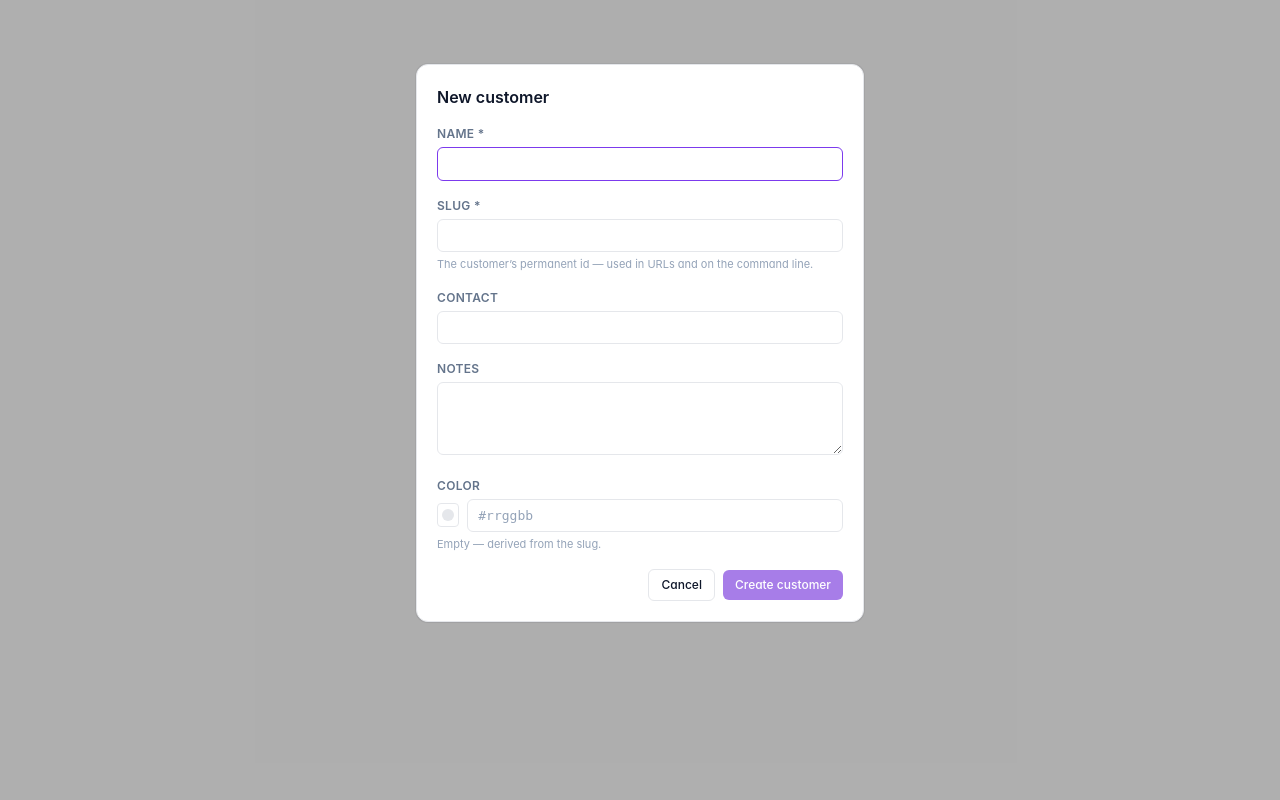
Test case: CustomerFormDialog › shows another 400 inline in the dialog
Step 1. Type "Acme" into the field labelled "Name *" → (640, 164), box top-left (437, 147), bottom-right (843, 180)
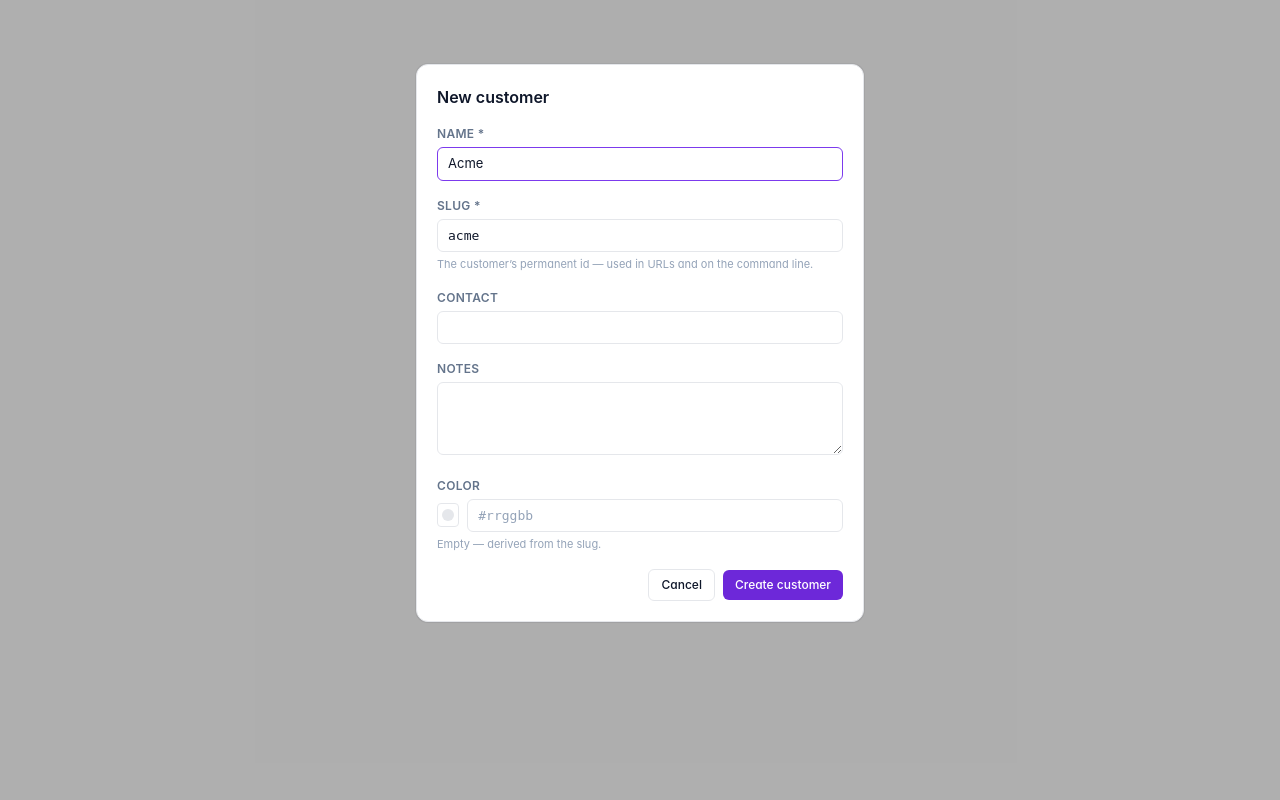
Step 2. Click the button "Create customer" → (783, 584), box top-left (723, 570), bottom-right (843, 600)
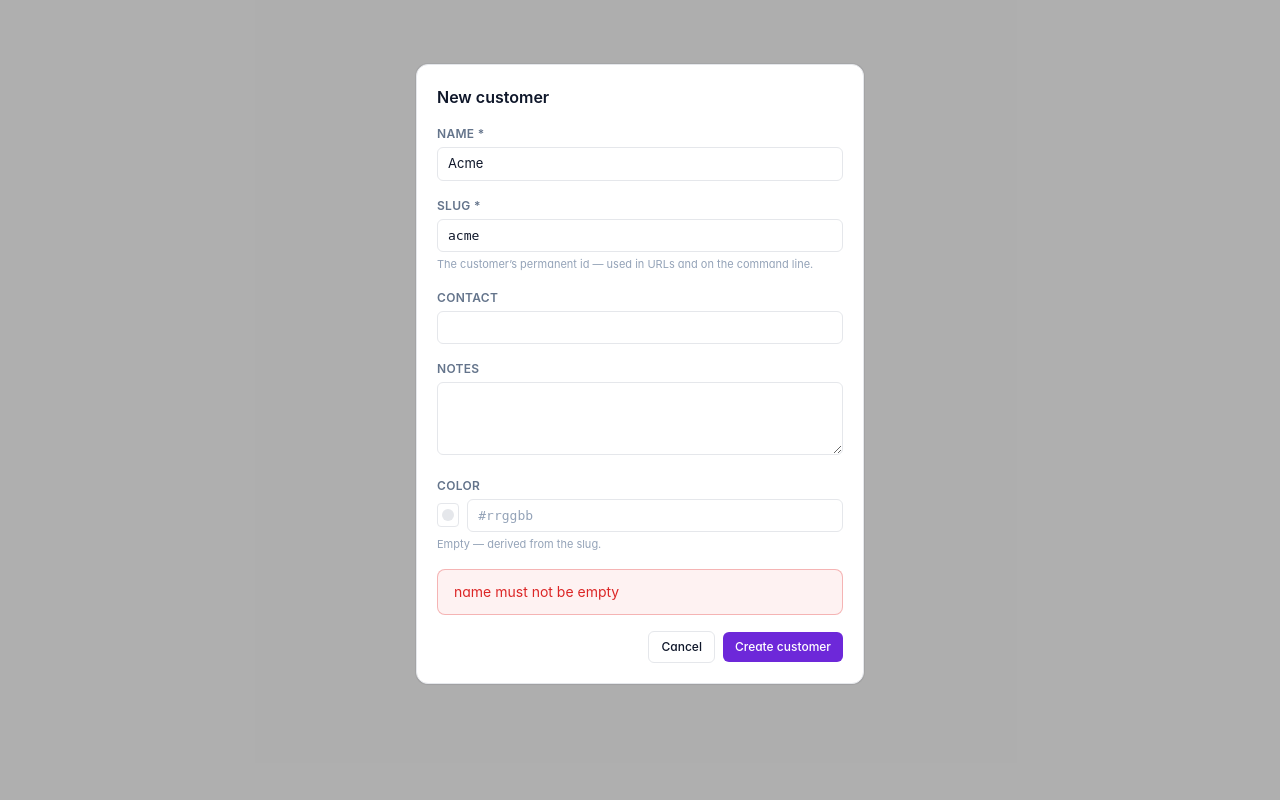
Check: the message reads "name must not be empty", box top-left (454, 582), bottom-right (619, 600)
